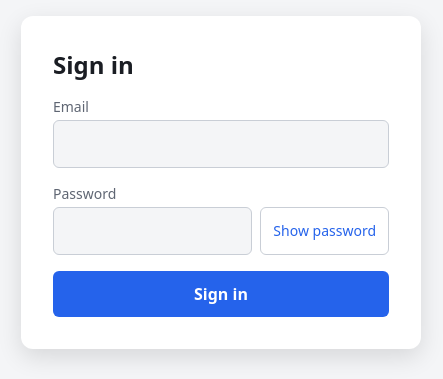
LoginPage › disables_button_and_shows_loading_while_in_flight
Type "alice@example.com" into the field labelled "Email". click: coordinates (221, 144)
box: [53, 120, 389, 168]
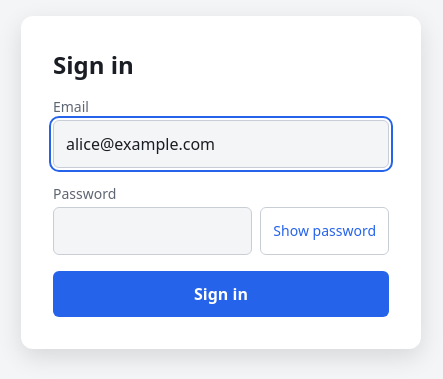
Type "Password123!" into the password field labelled "Password". click: coordinates (153, 230)
box: [53, 206, 252, 254]
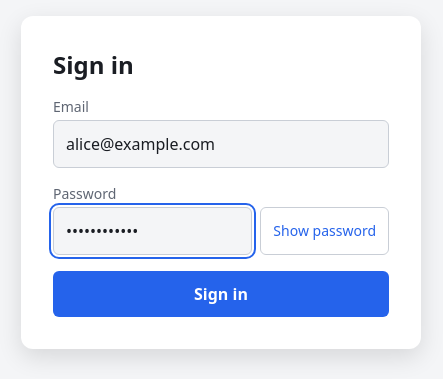
Click the button "Sign in". click: coordinates (221, 294)
box: [53, 270, 389, 316]
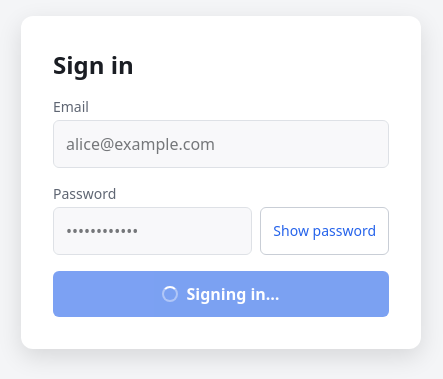
Now the button "Signing in…" is disabled, box [53, 270, 389, 316]
Now the field labelled "Email" is disabled, box [53, 120, 389, 168]
Now the password field labelled "Password" is disabled, box [53, 206, 252, 254]
